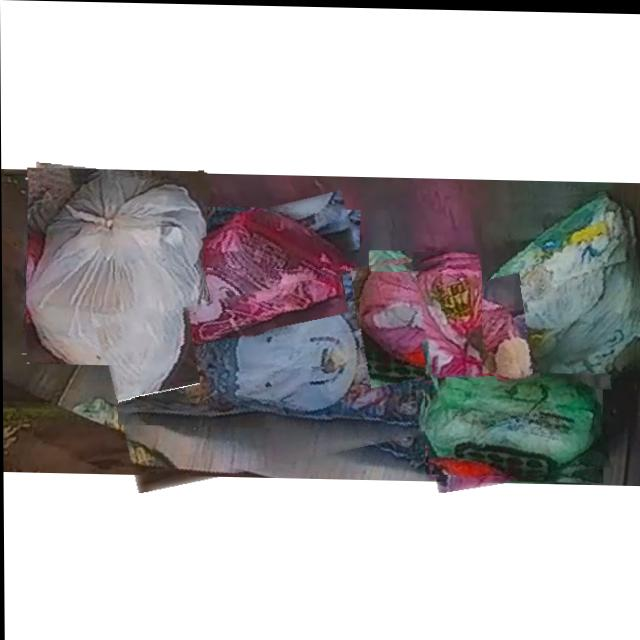general_trashbag: (482, 191, 639, 387), (424, 371, 598, 474)
other_trashbag: (118, 270, 435, 428), (26, 173, 205, 366), (373, 255, 528, 410), (185, 210, 364, 339)
